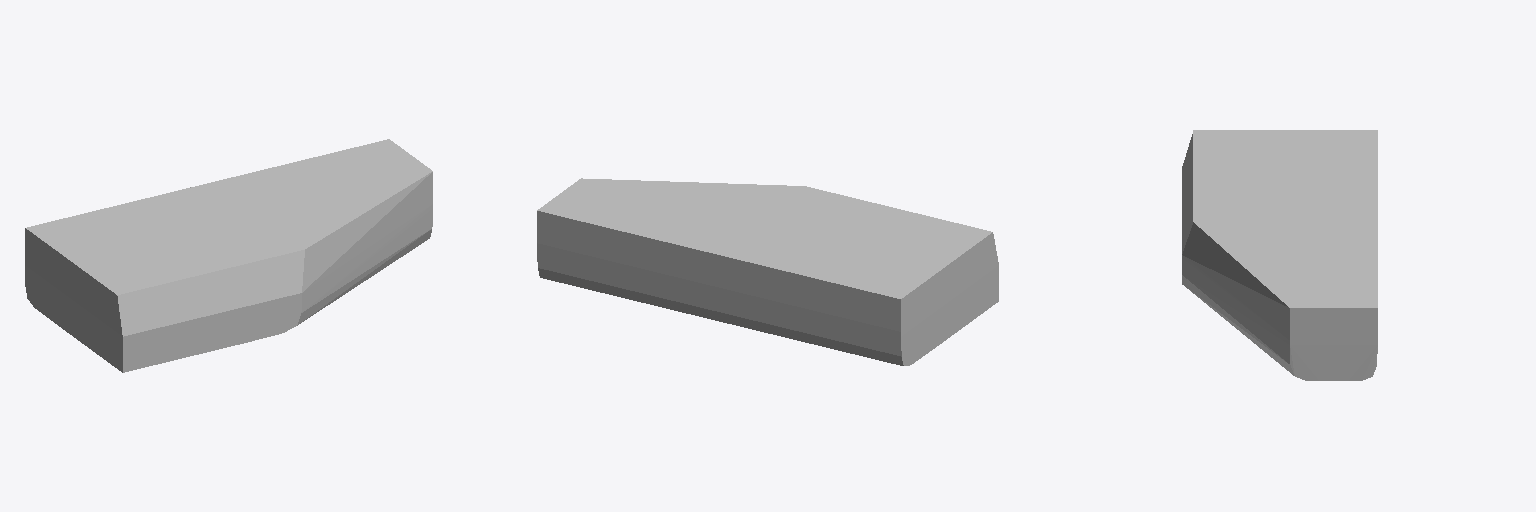
Rendered from pentagon_collision_76.obj.
3 renders of one model, left to right at view 1: azimuth 30°, elevation 25°; view 2: azimuth 150°, elevation 25°; view 3: azimuth 270°, elevation 25°, orthographic.
Size of the model in its own units: 0.0093 by 0.0018 by 0.0043.